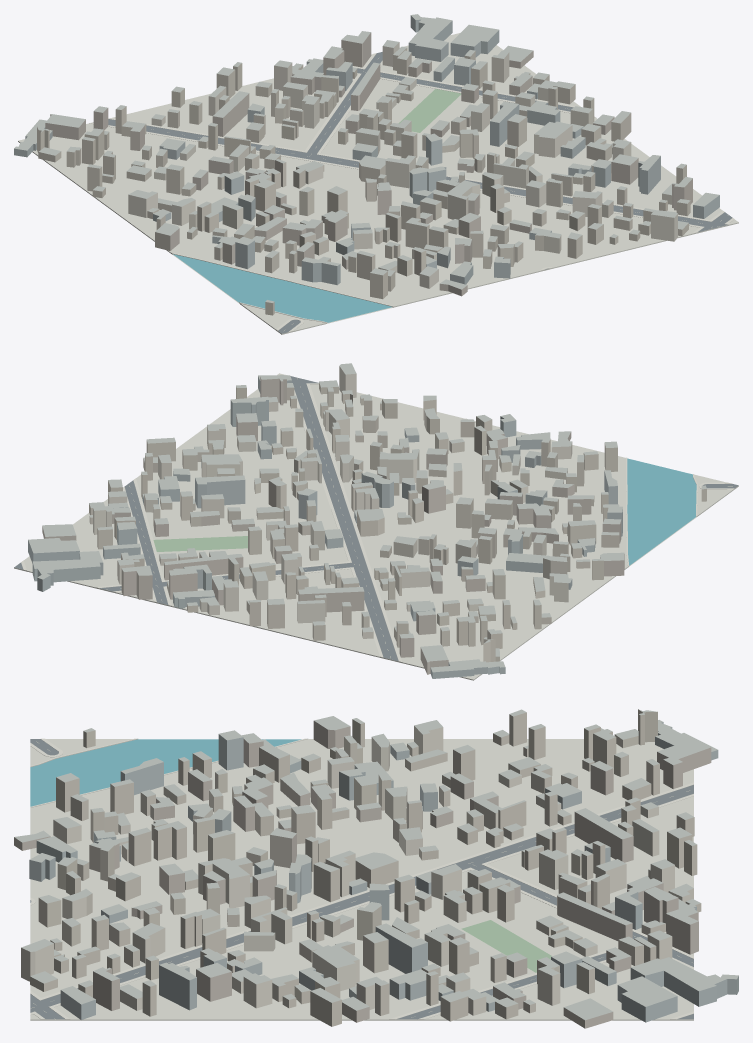
3 renders of one model, top to bottom at view 1: azimuth 30°, elevation 25°; view 2: azimuth 150°, elevation 25°; view 3: azimuth 270°, elevation 25°, orthographic. The views are drawn at different scales.
Visible parts, largest first — view 1: city; view 2: city; view 3: city.
Part boxes in pixels (bbox=[...]): city: bbox=[14, 14, 738, 334]; city: bbox=[14, 363, 738, 680]; city: bbox=[14, 709, 738, 1028].
Bounding box in the file's own units: 536 × 26 × 546.
